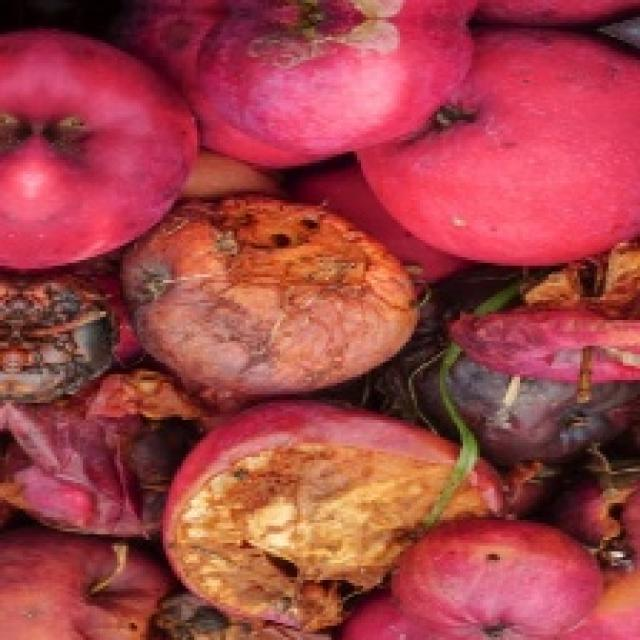rotten_apple: (134, 201, 421, 384), (177, 403, 399, 625), (449, 339, 636, 461), (0, 277, 120, 400)
